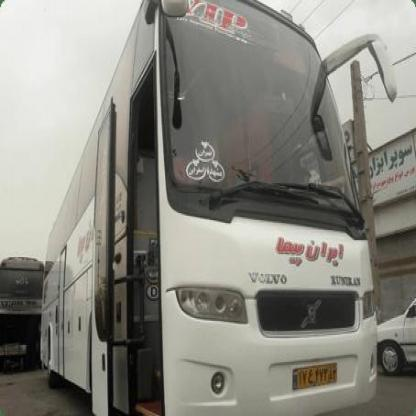Bus: (34, 0, 382, 416)
Car: (379, 290, 416, 375)
